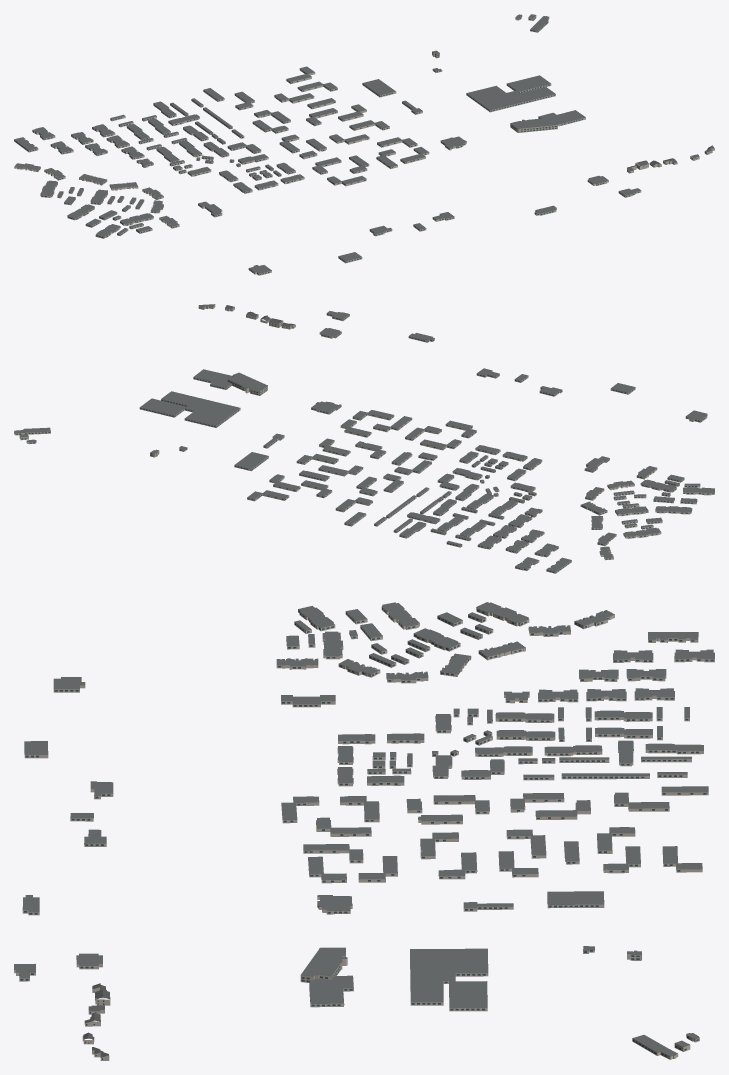
The picture shows the model from 3 angles, top to bottom: view 1: azimuth 30°, elevation 25°; view 2: azimuth 150°, elevation 25°; view 3: azimuth 270°, elevation 25°; orthographic projection. The views are drawn at different scales.
Parts seen in each view (by area): view 1: Buildings (-3, -1) Roof membrane, Buildings (-3, -1) Masonry brick, Buildings (-3, -1) Architectural tinted glass, Buildings (-3, -1) Metal coping; view 2: Buildings (-3, -1) Roof membrane, Buildings (-3, -1) Masonry brick, Buildings (-3, -1) Architectural tinted glass, Buildings (-3, -1) Metal coping; view 3: Buildings (-3, -1) Roof membrane, Buildings (-3, -1) Masonry brick, Buildings (-3, -1) Architectural tinted glass, Buildings (-3, -1) Metal coping.
Boxes of the visible parts, left/top/right/bottom form: Buildings (-3, -1) Roof membrane: left=14, top=14, right=640, bottom=273; Buildings (-3, -1) Masonry brick: left=14, top=15, right=699, bottom=275; Buildings (-3, -1) Architectural tinted glass: left=14, top=17, right=710, bottom=274; Buildings (-3, -1) Metal coping: left=14, top=14, right=625, bottom=271; Buildings (-3, -1) Roof membrane: left=14, top=311, right=714, bottom=571; Buildings (-3, -1) Masonry brick: left=14, top=306, right=714, bottom=573; Buildings (-3, -1) Architectural tinted glass: left=16, top=307, right=714, bottom=572; Buildings (-3, -1) Metal coping: left=14, top=311, right=710, bottom=567; Buildings (-3, -1) Roof membrane: left=14, top=602, right=714, bottom=1056; Buildings (-3, -1) Masonry brick: left=14, top=605, right=714, bottom=1059; Buildings (-3, -1) Architectural tinted glass: left=19, top=608, right=713, bottom=1059; Buildings (-3, -1) Metal coping: left=16, top=602, right=713, bottom=1056.
Bounding box in the file's own units: 1030 × 14.87 × 670.
